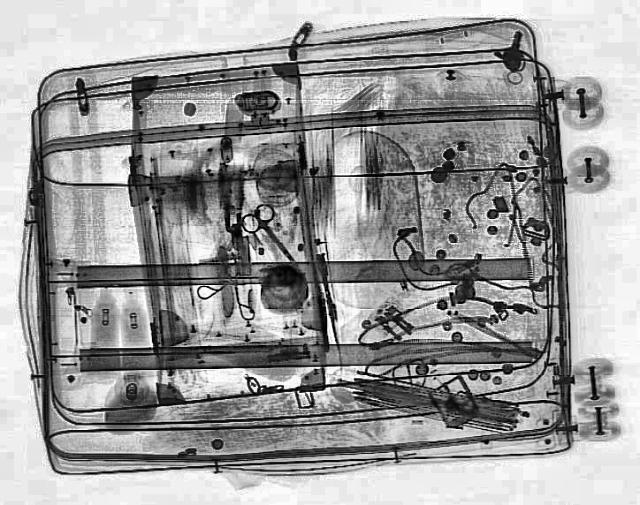Scissors: (229, 199, 313, 275)
